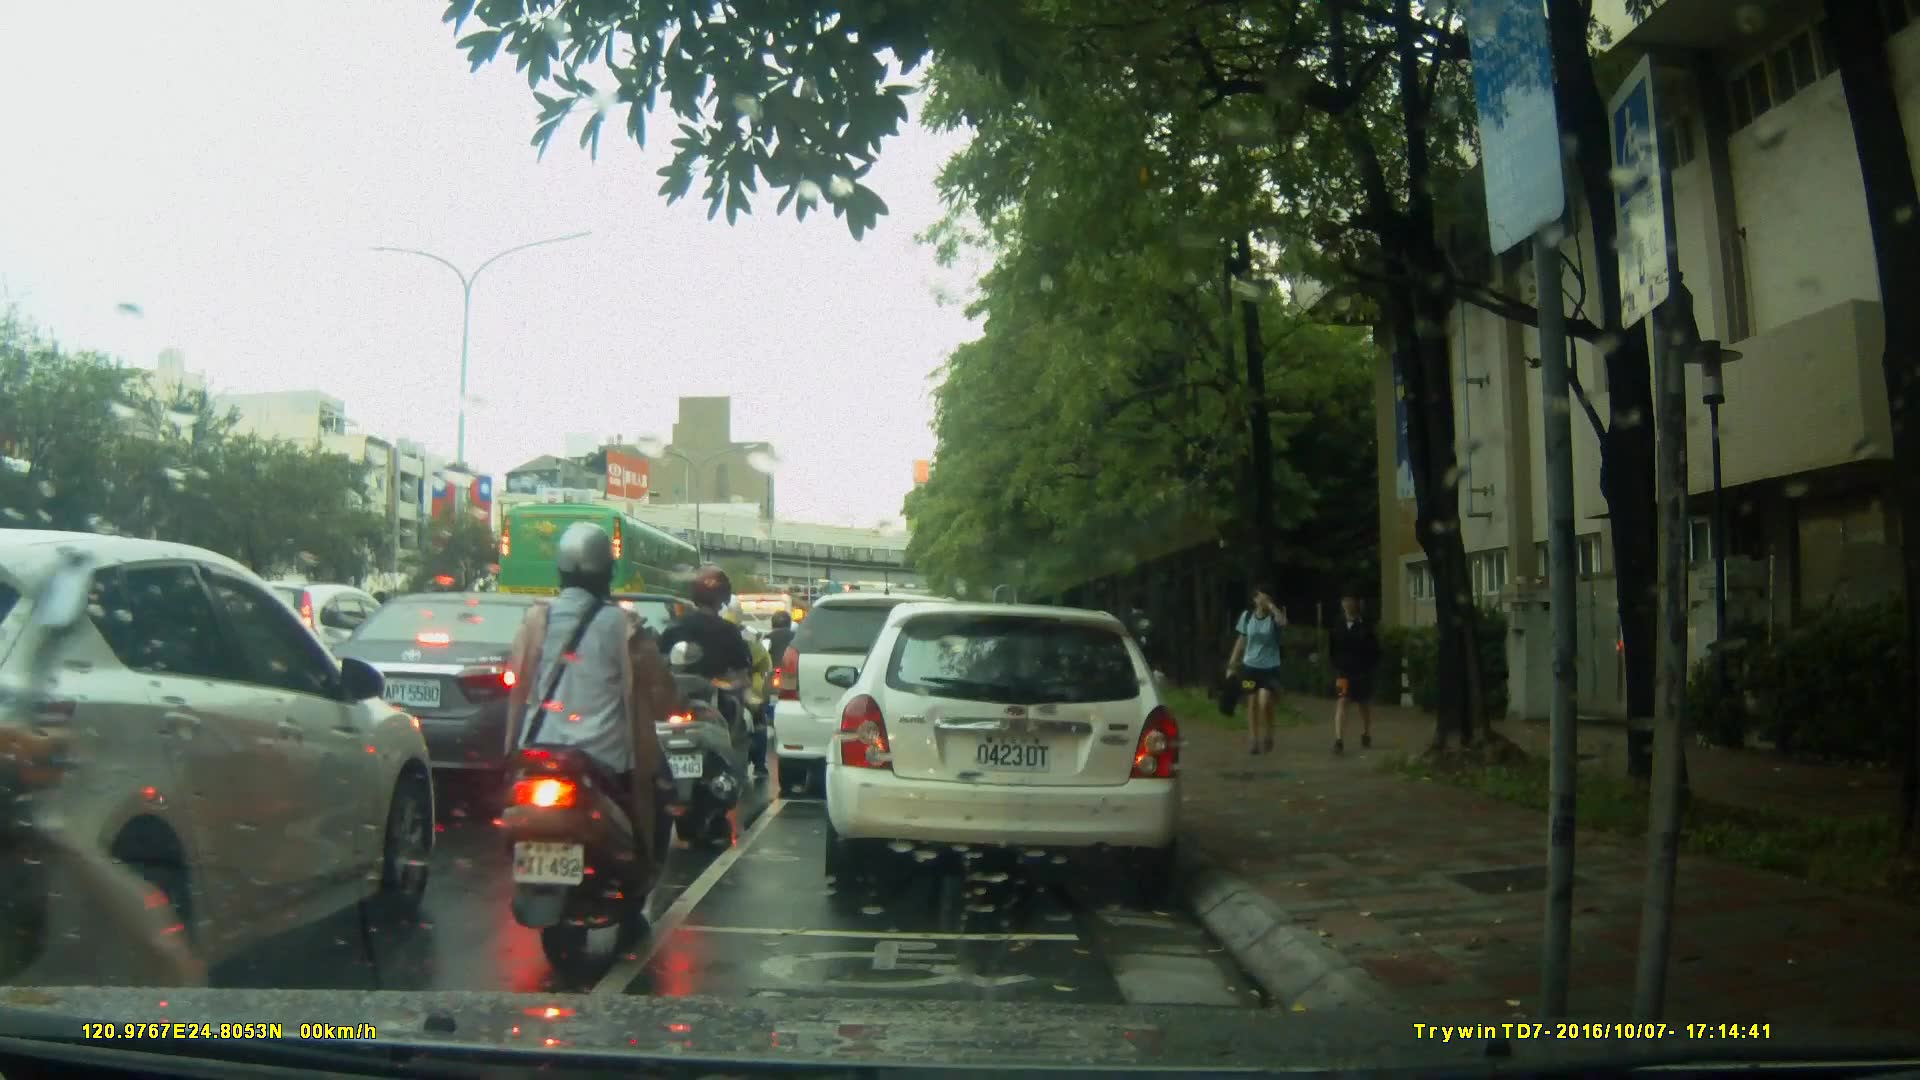pedestrian: (1210, 581, 1325, 760), (1323, 574, 1394, 763), (1123, 596, 1164, 728)
rider: (502, 524, 670, 968), (646, 569, 751, 836), (702, 594, 775, 776), (752, 610, 813, 753)
vehicle: (1, 528, 446, 987), (831, 592, 1196, 897), (312, 590, 640, 806), (770, 592, 999, 802), (495, 500, 707, 637)
